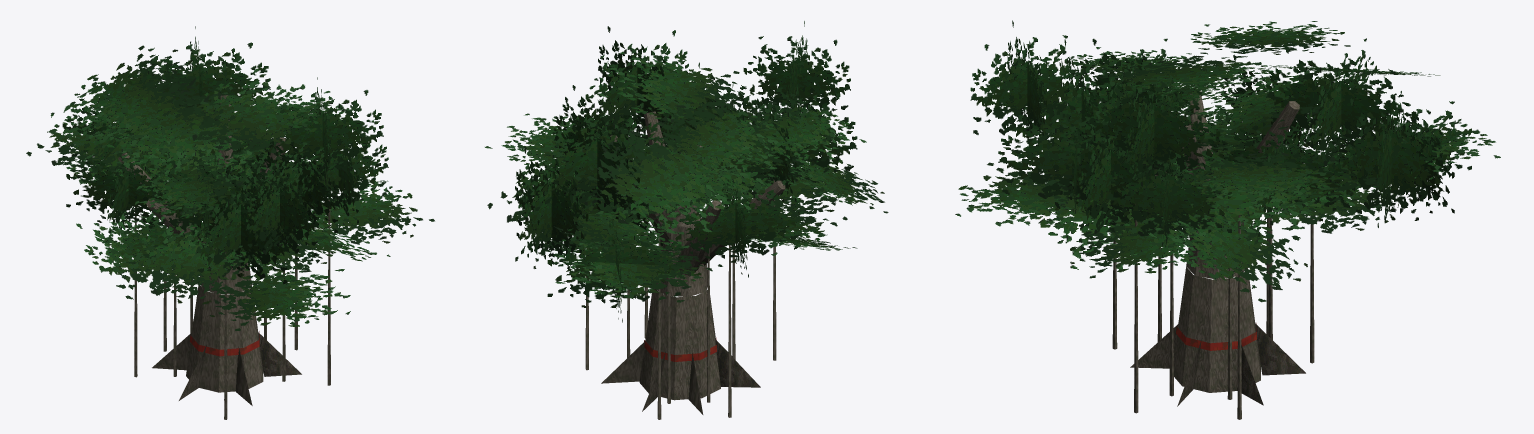
File: banyan_tree.glb
The picture shows the model from 3 angles, left to right: view 1: azimuth 30°, elevation 25°; view 2: azimuth 150°, elevation 25°; view 3: azimuth 270°, elevation 25°; orthographic projection. The views are drawn at different scales.
Parts seen in each view (by area): view 1: banyan_tree_leaves_clump_cut, banyan_tree_bark, banyan_tree_lacquer_red; view 2: banyan_tree_leaves_clump_cut, banyan_tree_bark, banyan_tree_lacquer_red; view 3: banyan_tree_leaves_clump_cut, banyan_tree_bark, banyan_tree_lacquer_red.
Part boxes in pixels (x1,y1,x2,y2): banyan_tree_leaves_clump_cut: (26,26,434,330); banyan_tree_bark: (118,95,330,419); banyan_tree_lacquer_red: (190,331,259,356); banyan_tree_leaves_clump_cut: (485,21,888,322); banyan_tree_bark: (585,111,785,419); banyan_tree_lacquer_red: (644,337,716,361); banyan_tree_leaves_clump_cut: (955,20,1500,302); banyan_tree_bark: (1112,91,1314,419); banyan_tree_lacquer_red: (1176,323,1256,350).
Size of what is drawn, in the model's own units: 11.88 by 9.93 by 15.92.
Materials: 3 (3 with a texture image).
